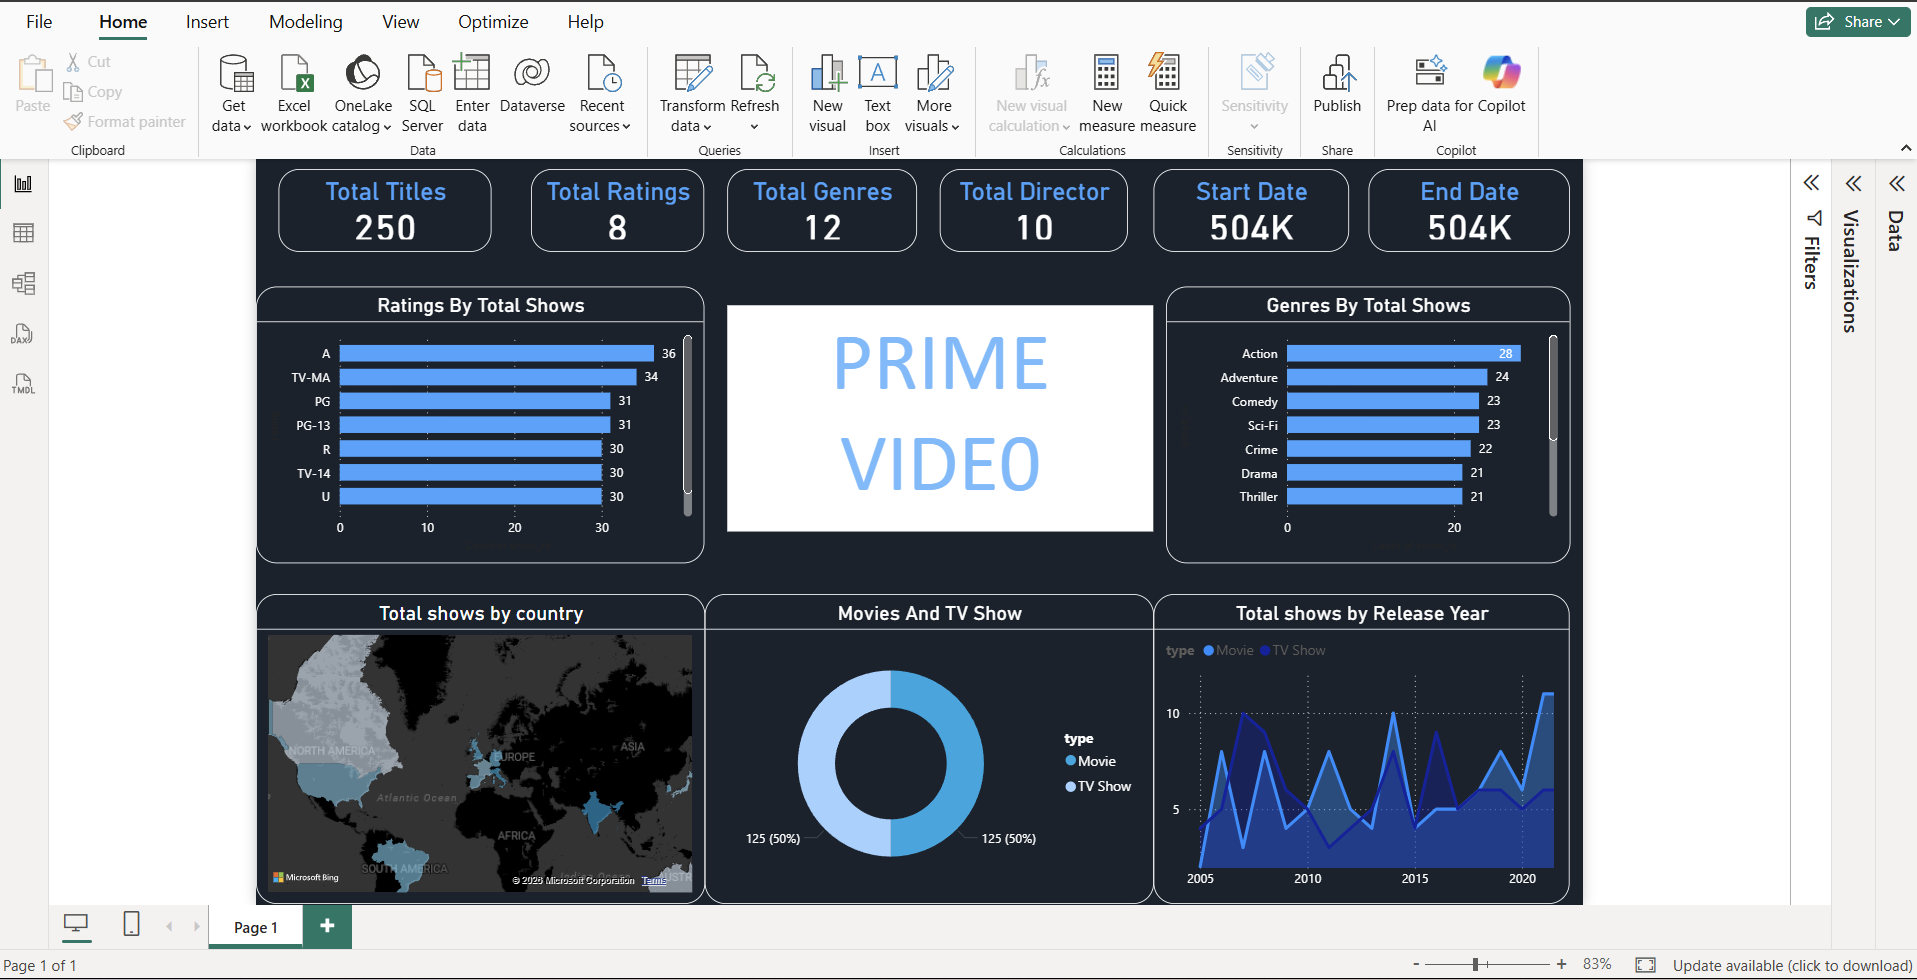

Layout of this report page (visuals, bound fields, positions):
{"tool":"powerbi","page":{"name":"Page 1","canvas":[1280,720],"ordinal":0},"visuals":[{"type":"filledMap","title":"Total shows by country","fields":{"Category":["AmazonPrimeTitles.country"]},"box":[0,419.9,433.3,299.4],"z":0},{"type":"donutChart","title":"Movies And TV Show","fields":{"Category":["AmazonPrimeTitles.type"],"Y":["Count(AmazonPrimeTitles.show_id)"]},"box":[433.3,419.9,433.3,299.4],"z":1000},{"type":"areaChart","title":"Total shows by Release Year","fields":{"Category":["AmazonPrimeTitles.release_year"],"Y":["CountNonNull(AmazonPrimeTitles.show_id)"],"Series":["AmazonPrimeTitles.type"]},"box":[866.6,419.9,401.5,299.4],"z":2000},{"type":"textbox","box":[454.3,141.4,411.4,218.6],"z":3000},{"type":"barChart","title":" Ratings By Total Shows","fields":{"Category":["AmazonPrimeTitles.rating"],"Y":["CountNonNull(AmazonPrimeTitles.show_id)"]},"box":[0,122.9,432.9,267.1],"z":4000},{"type":"barChart","title":"Genres By Total Shows","fields":{"Y":["CountNonNull(AmazonPrimeTitles.show_id)"],"Category":["AmazonPrimeTitles.listed_in"]},"box":[878.6,122.9,390,267.1],"z":5000},{"type":"card","title":"Total Titles","fields":{"Values":["Count(AmazonPrimeTitles.title)"]},"box":[21.4,10,205.7,80],"z":6000},{"type":"card","title":"Total Ratings","fields":{"Values":["Count(AmazonPrimeTitles.rating)"]},"box":[265.7,10,167.1,80],"z":7000},{"type":"card","title":"Total Genres","fields":{"Values":["Count(AmazonPrimeTitles.listed_in)"]},"box":[454.3,10,182.9,80],"z":8000},{"type":"card","title":"Total Director","fields":{"Values":["Count(AmazonPrimeTitles.director)"]},"box":[660,10,181.4,80],"z":9000},{"type":"card","title":"Start Date","fields":{"Values":["Sum(AmazonPrimeTitles.release_year)"]},"box":[865.7,10,188.6,80],"z":10000},{"type":"card","title":"End Date","fields":{"Values":["Sum(AmazonPrimeTitles.release_year)"]},"box":[1074.3,10,194.3,80],"z":11000}]}

Visuals, with their boxes on the page's 1280x720 design canvas (x1, y1, x2, y2). These are canvas units, not pixel positions in the 1917x980 screenshot, which may show the page scaled, cropped or inside an application window:
"Total shows by country" filledMap: (x1=0, y1=420, x2=433, y2=719)
"Movies And TV Show" donutChart: (x1=433, y1=420, x2=867, y2=719)
"Total shows by Release Year" areaChart: (x1=867, y1=420, x2=1268, y2=719)
textbox: (x1=454, y1=141, x2=866, y2=360)
" Ratings By Total Shows" barChart: (x1=0, y1=123, x2=433, y2=390)
"Genres By Total Shows" barChart: (x1=879, y1=123, x2=1269, y2=390)
"Total Titles" card: (x1=21, y1=10, x2=227, y2=90)
"Total Ratings" card: (x1=266, y1=10, x2=433, y2=90)
"Total Genres" card: (x1=454, y1=10, x2=637, y2=90)
"Total Director" card: (x1=660, y1=10, x2=841, y2=90)
"Start Date" card: (x1=866, y1=10, x2=1054, y2=90)
"End Date" card: (x1=1074, y1=10, x2=1269, y2=90)
